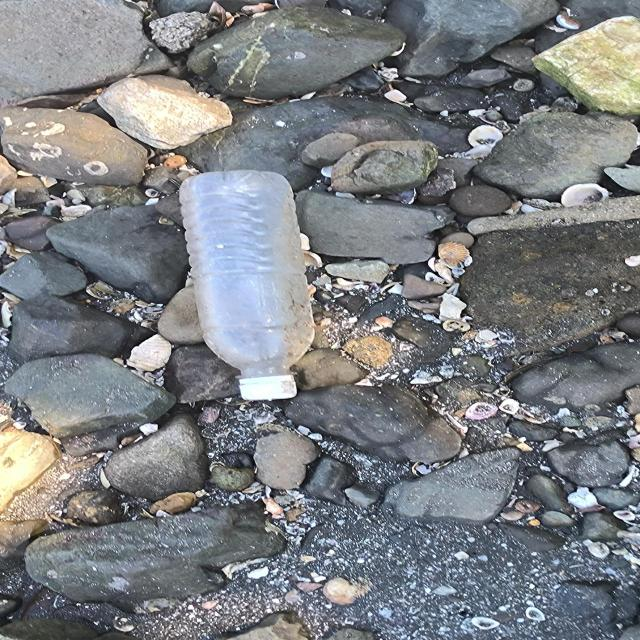plastic_waste: (176, 170, 320, 403)
